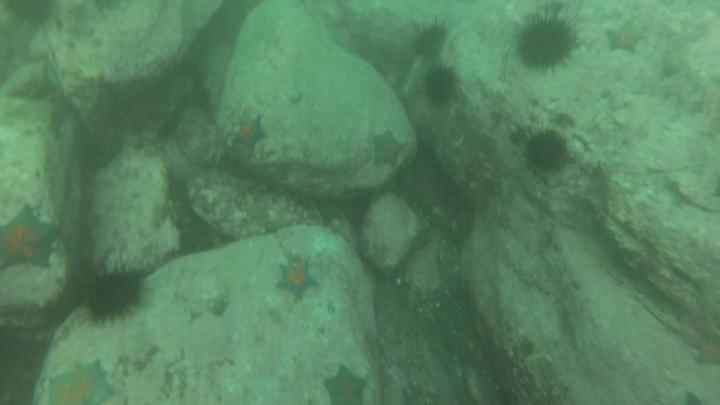echinus: (78, 260, 151, 328), (512, 8, 582, 77), (520, 119, 575, 179), (418, 61, 464, 112), (408, 16, 450, 66)
starfish: (1, 205, 60, 275), (44, 357, 119, 405), (321, 362, 372, 405), (277, 257, 321, 304), (230, 116, 270, 156), (604, 19, 646, 57), (370, 128, 406, 172), (688, 328, 720, 369)
